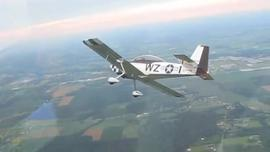aircraft: (83, 38, 214, 98)
